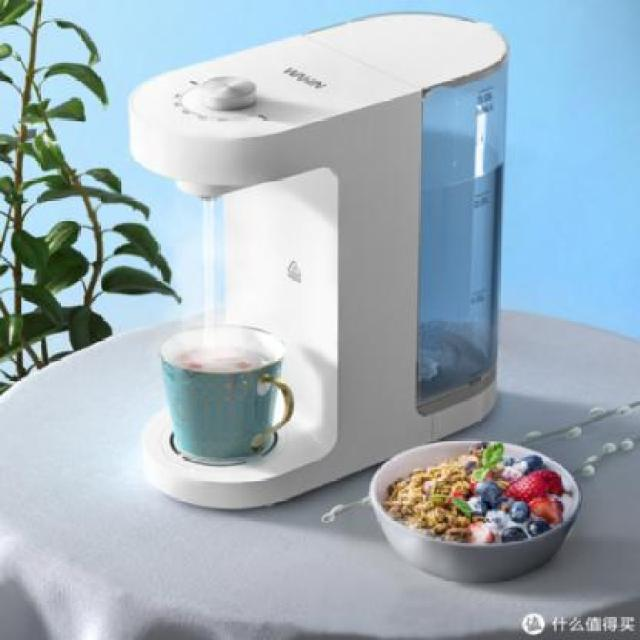cooler: (124, 12, 508, 515)
